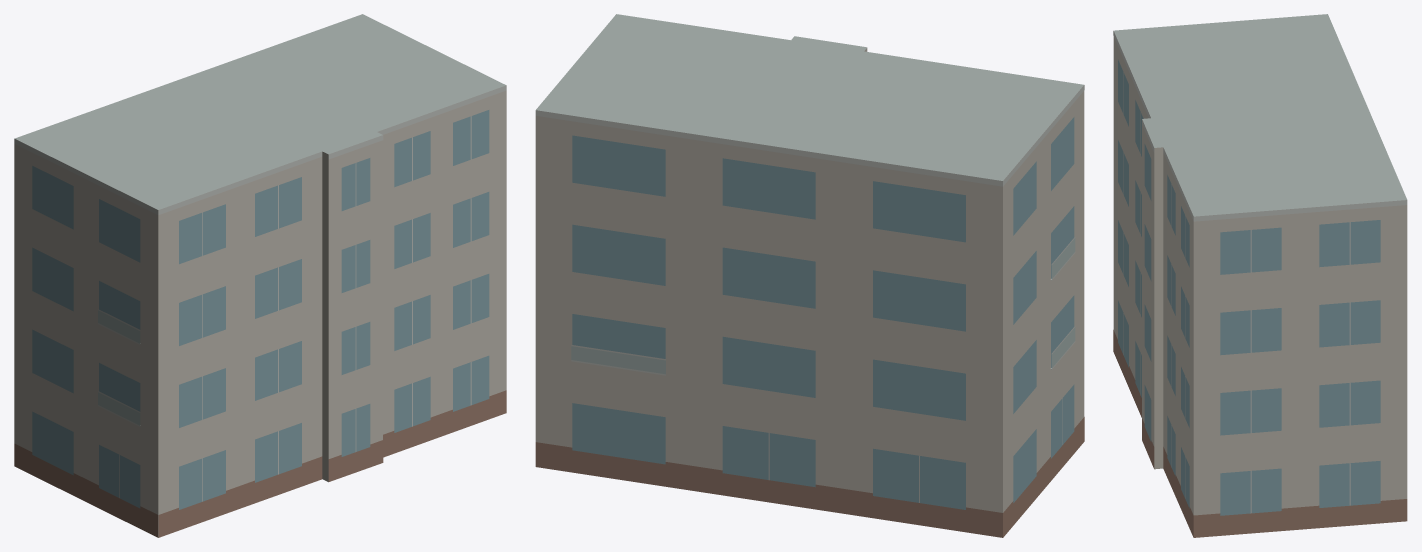
The model's file is survey-upis-32527073.glb.
The picture shows the model from 3 angles, left to right: view 1: azimuth 30°, elevation 25°; view 2: azimuth 150°, elevation 25°; view 3: azimuth 270°, elevation 25°; orthographic projection. The views are drawn at different scales.
Parts seen in each view (by area): view 1: survey-upis-32527073.tmp; view 2: survey-upis-32527073.tmp; view 3: survey-upis-32527073.tmp.
Part boxes in pixels (<box>): survey-upis-32527073.tmp: <box>14,14,506,537</box>; survey-upis-32527073.tmp: <box>535,14,1084,537</box>; survey-upis-32527073.tmp: <box>1113,14,1407,537</box>.
Size of the model in its own units: 21.11 by 15.6 by 12.94.
